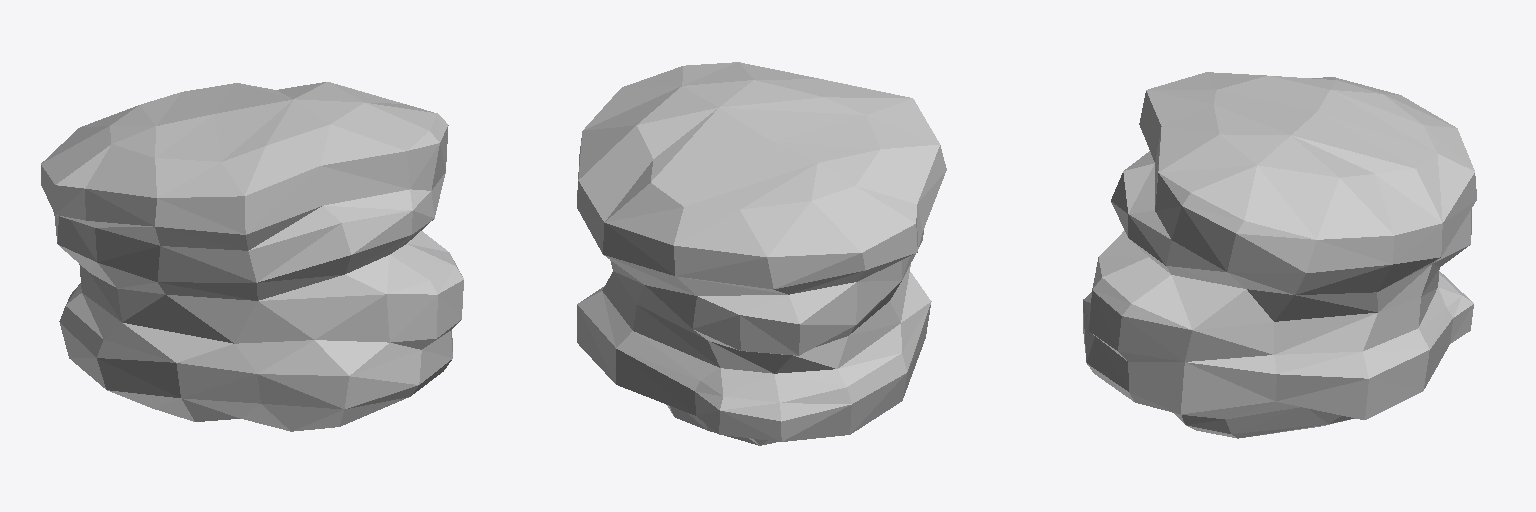
File: Rock6.obj
The picture shows the model from 3 angles: view 1: azimuth 30°, elevation 25°; view 2: azimuth 150°, elevation 25°; view 3: azimuth 270°, elevation 25°; orthographic projection.
Parts seen in each view (by area): view 1: Rock6; view 2: Rock6; view 3: Rock6.
Part boxes in pixels (bbox=[...]): Rock6: bbox=[41, 82, 463, 431]; Rock6: bbox=[577, 62, 946, 445]; Rock6: bbox=[1083, 72, 1476, 438].
Size of the model in its own units: 64.75 by 50.48 by 63.06.